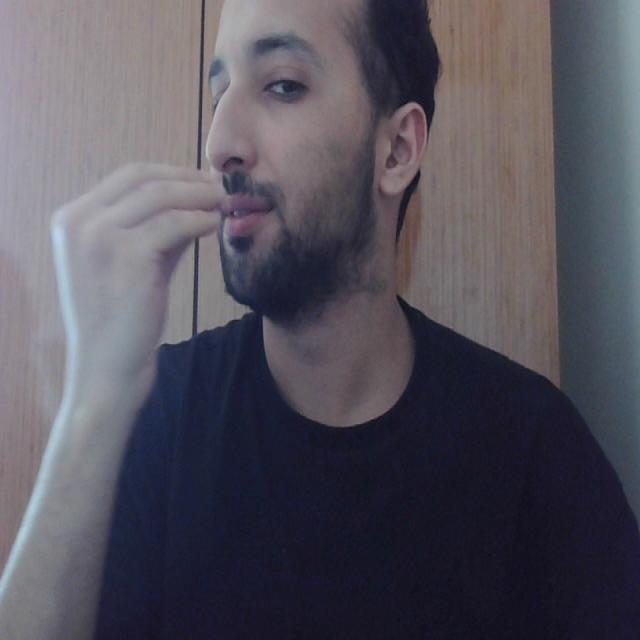Yemek: (48, 161, 250, 257)
